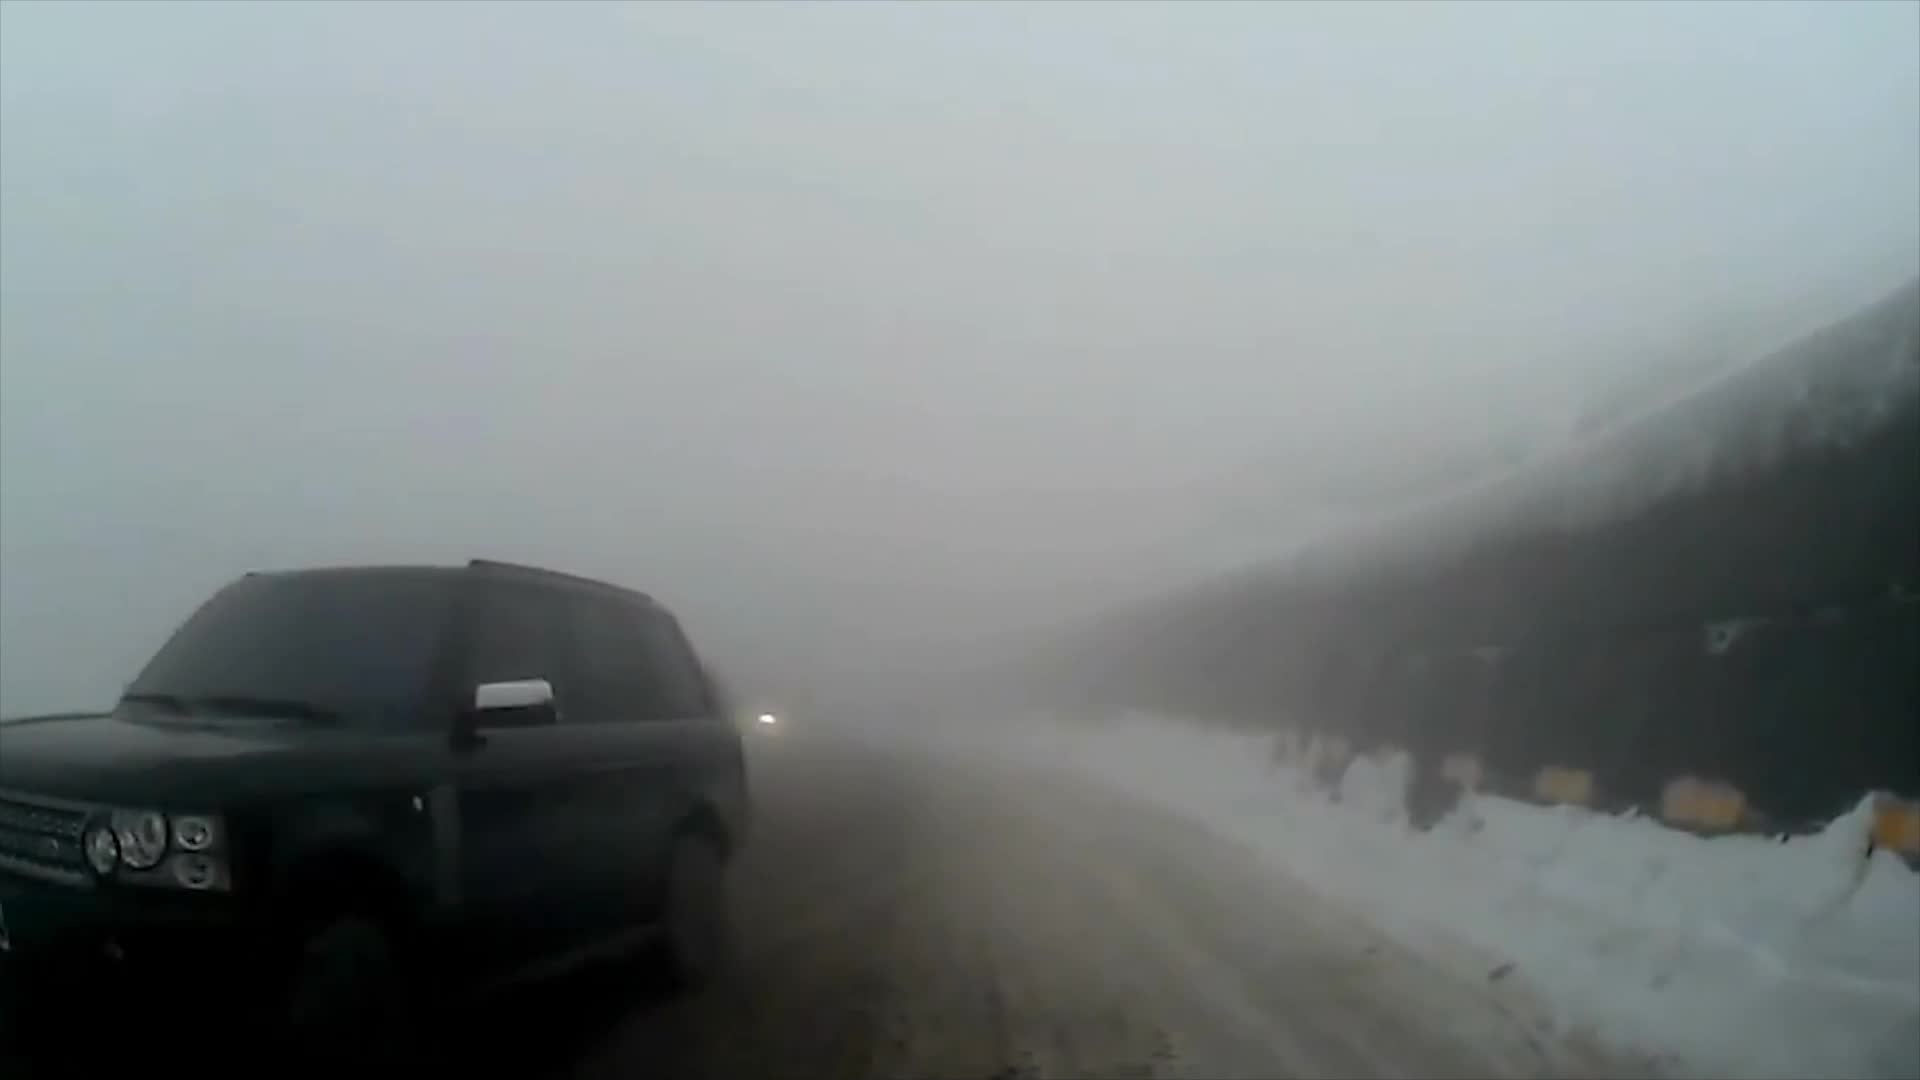vehicle: (0, 556, 750, 1077)
